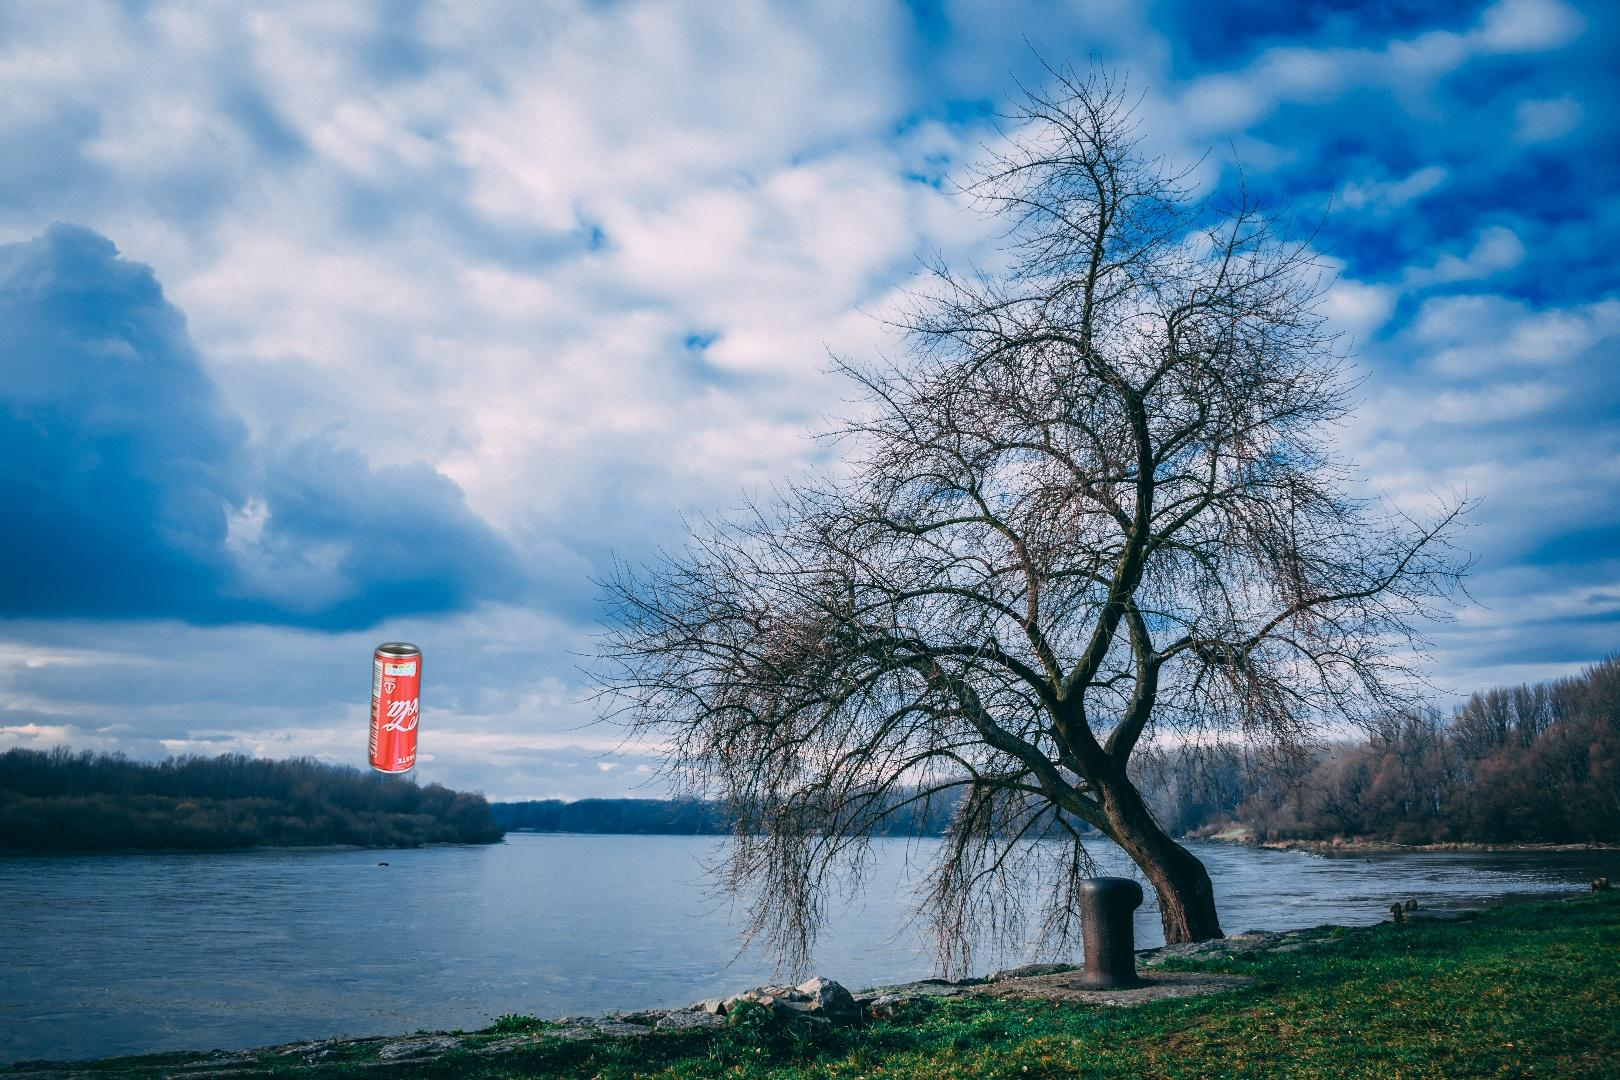metal-cans: (364, 636, 425, 780)
